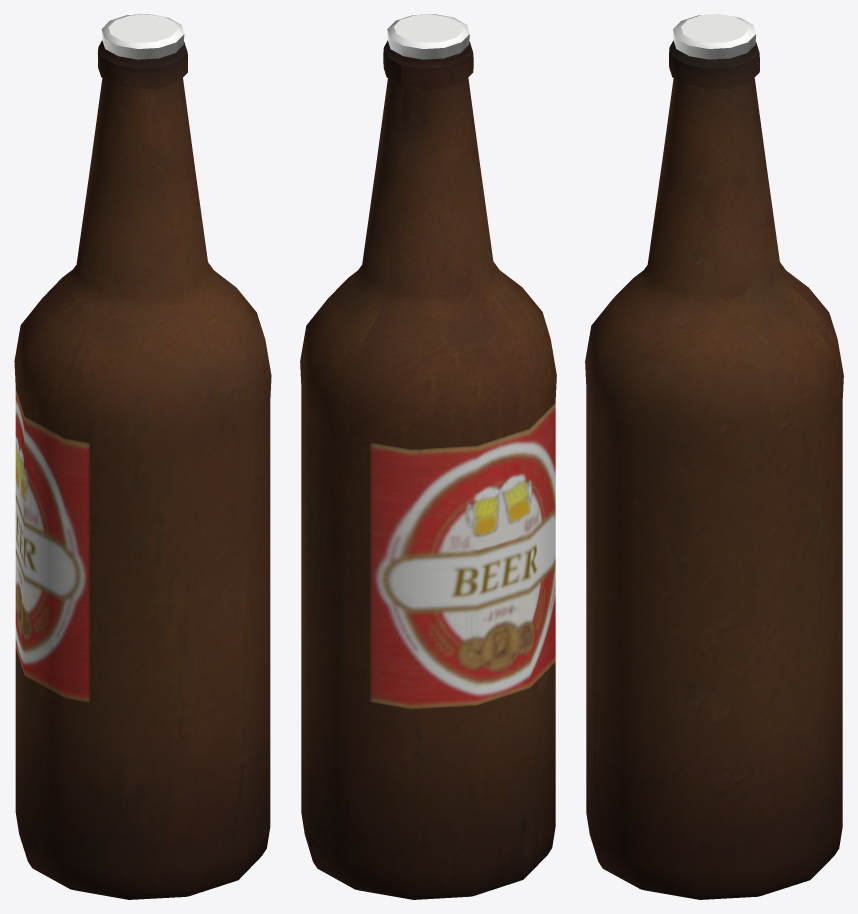
The model's file is Beer 5.FBX.
The picture shows the model from 3 angles, left to right: view 1: azimuth 30°, elevation 25°; view 2: azimuth 150°, elevation 25°; view 3: azimuth 270°, elevation 25°; orthographic projection.
Visible parts, largest first — view 1: Beer 5; view 2: Beer 5; view 3: Beer 5.
Part boxes in pixels (x1,y1,x2,y2): Beer 5: (14,14,271,899); Beer 5: (300,14,556,899); Beer 5: (585,14,843,899).
Size of the model in its own units: 5.92 by 21.01 by 5.97.
Materials: 1 (1 with a texture image).
